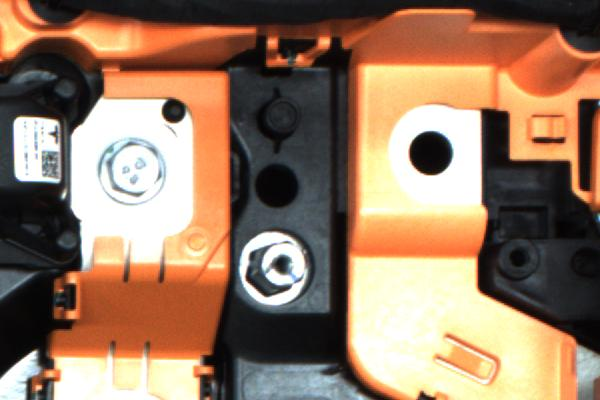nut_b: (93, 136, 178, 208)
